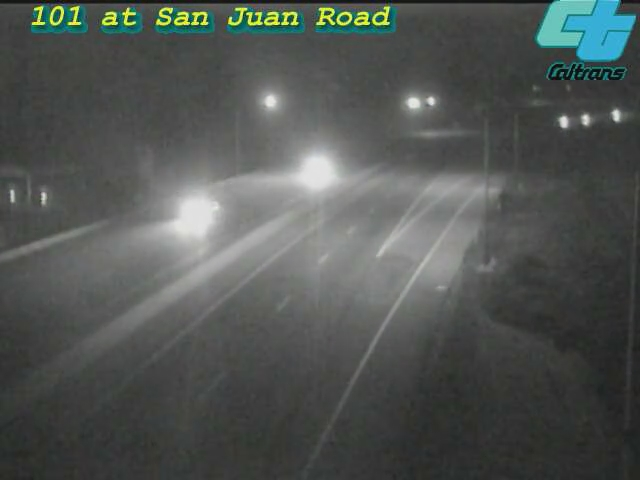vehicle: (150, 171, 230, 251), (274, 130, 354, 210), (563, 93, 613, 143), (539, 98, 589, 148), (591, 90, 640, 140)
